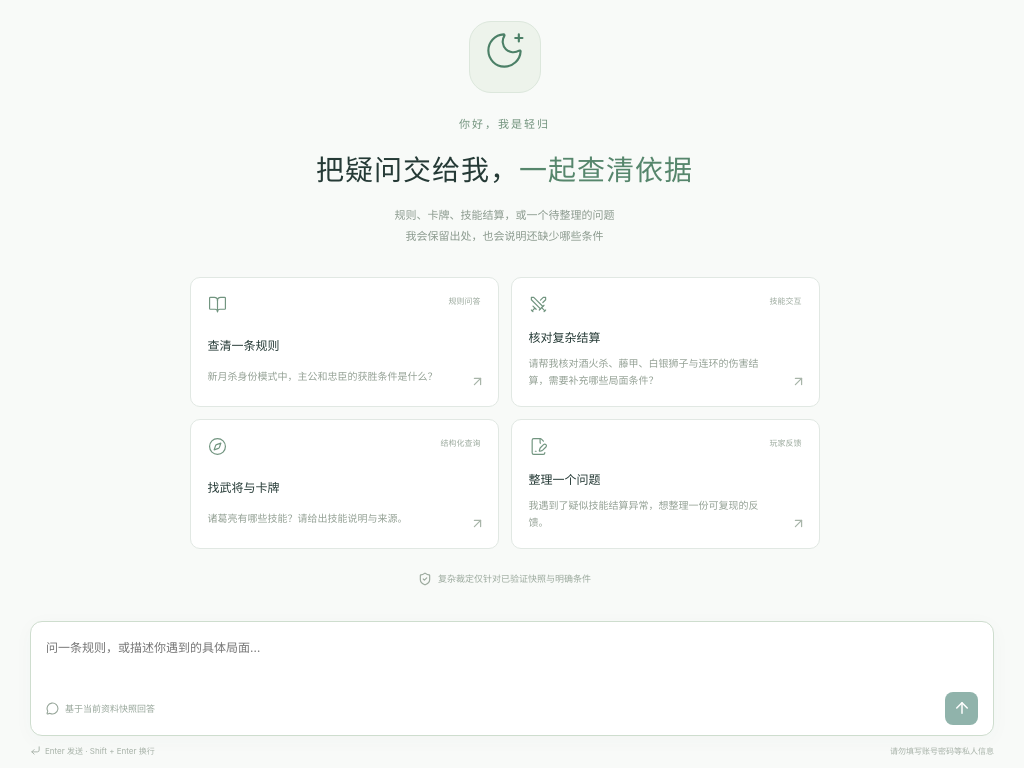
Test: does not erase a new draft when new-session creation finishes later
Later steps or results of the test are not shown.
(page scrolled)
Type "第一条" into the text box named "输入问题" at (512, 662), box [46,632,978,692]
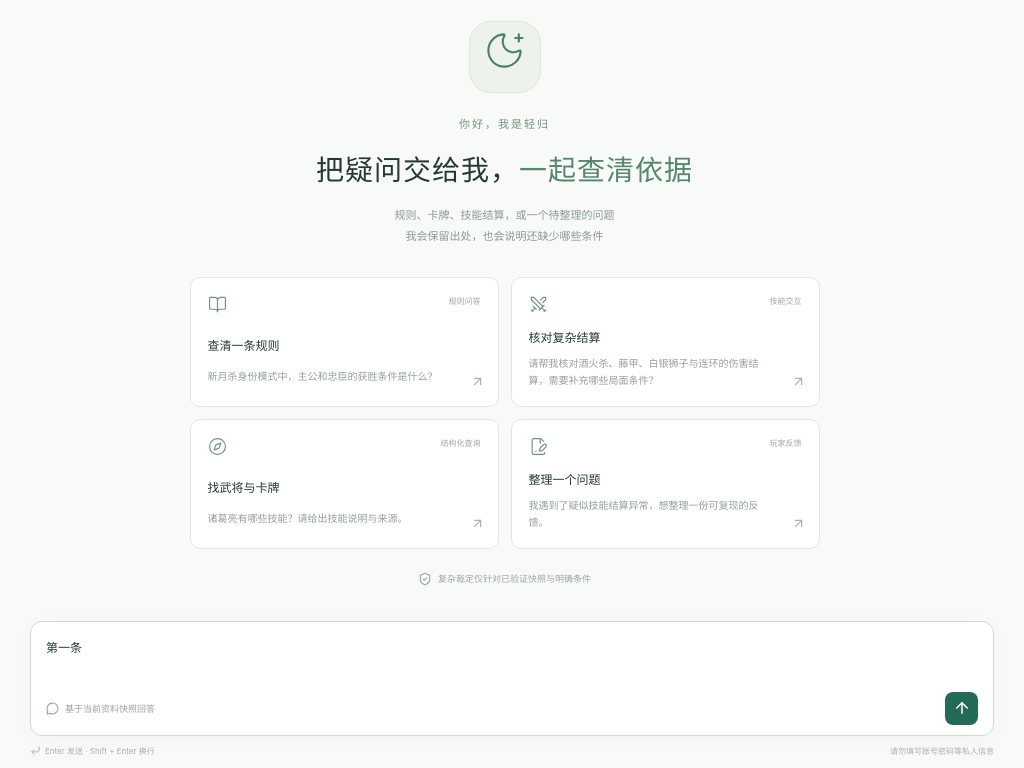
Click the button named "发送问题" at (962, 708), box [945,692,978,725]
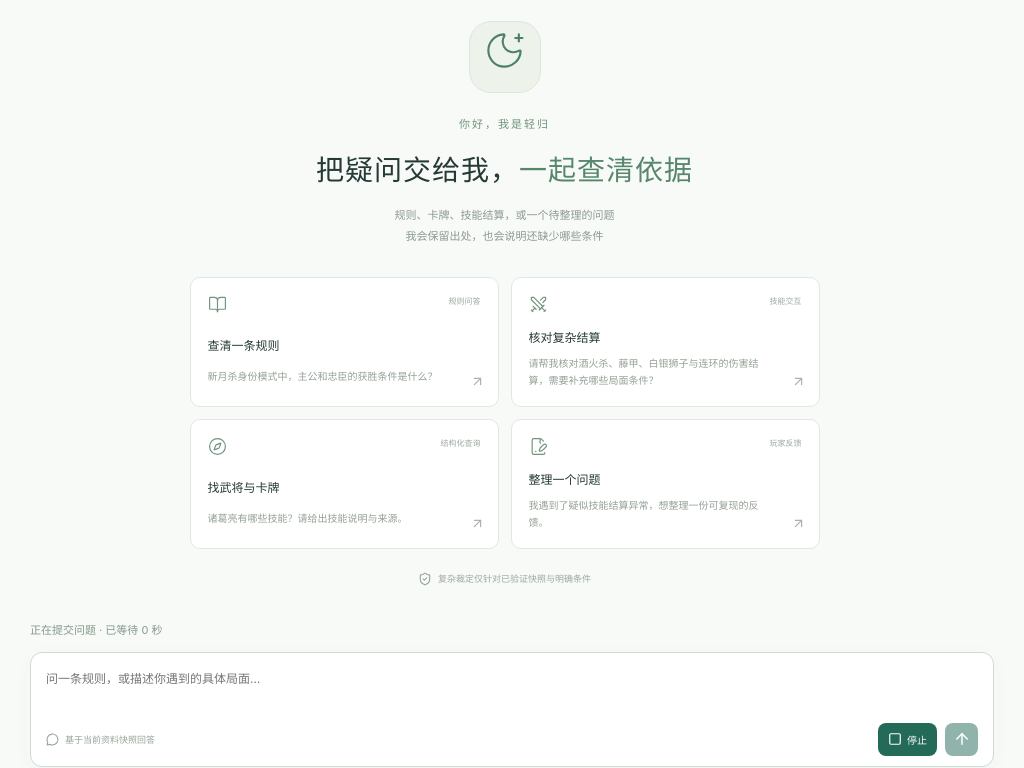
Expected: the text box named "输入问题" is enabled, [46,663,978,723]
Expected: the text box named "输入问题" is empty, [46,663,978,723]
